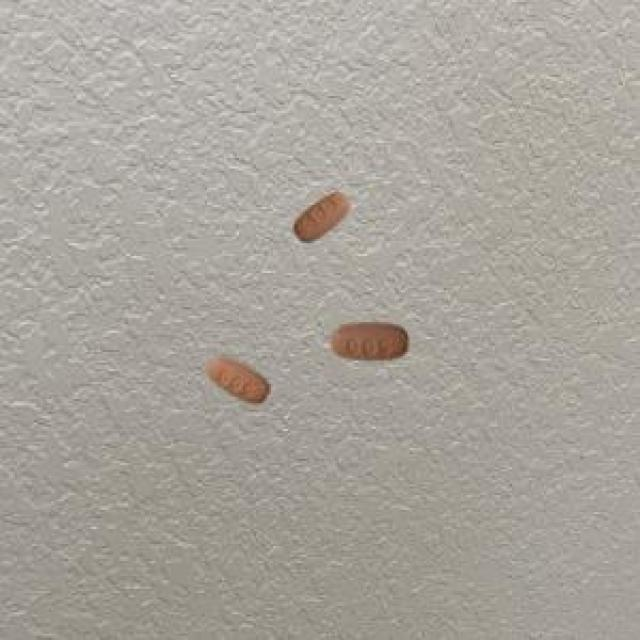Biogesic: (273, 172, 369, 257), (317, 307, 415, 380), (192, 339, 277, 423)
